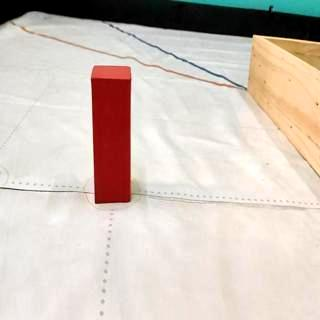redbox: (91, 64, 132, 204)
